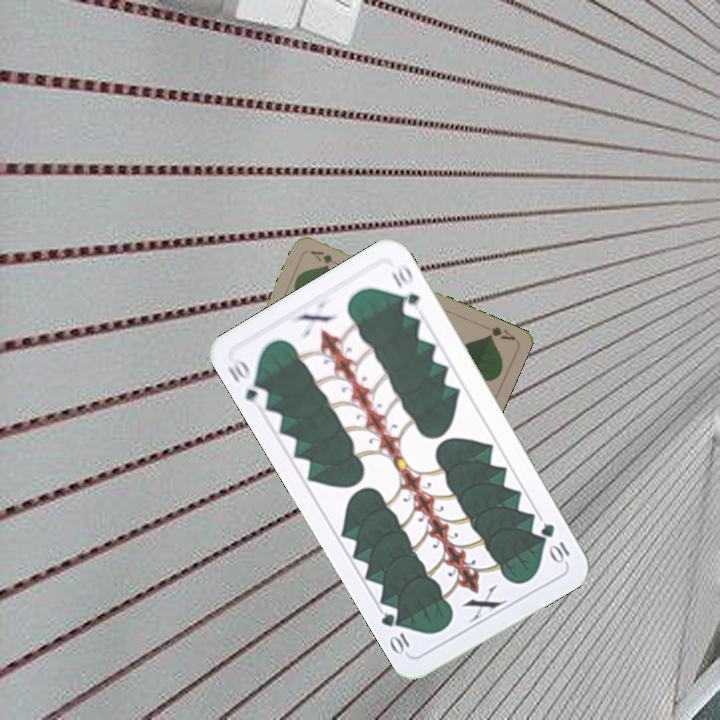G10: (223, 354, 271, 411), (536, 519, 573, 566)
GA: (478, 321, 518, 343)
